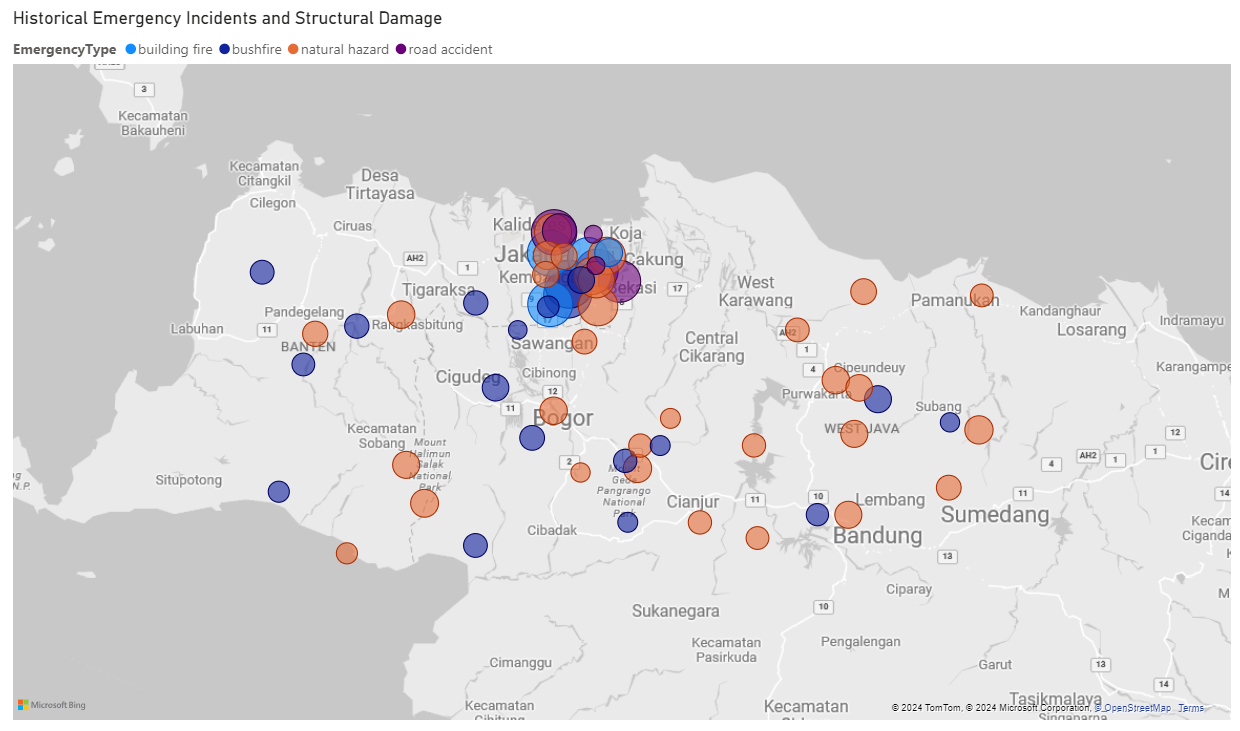

What the dashboard file says about the page in this screenshot:
{"tool":"powerbi","page":{"name":"map-structural-damage","canvas":[1280,720],"ordinal":3},"visuals":[{"type":"map","title":"Historical Emergency Incidents and Structural Damage","fields":{"Y":["dummy.Location_Latitude"],"X":["dummy.Location_Longitude"],"Series":["dummy.EmergencyType"],"Size":["Sum(dummy.Structural_Damage)"]},"box":[41.6,17,1169.8,684.1],"z":0}]}

Visuals, with their boxes on the page's 1280x720 design canvas (x1, y1, x2, y2). These are canvas units, not pixel positions in the 1240x731 screenshot, which may show the page scaled, cropped or inside an application window:
"Historical Emergency Incidents and Structural Damage" map: l=42, t=17, r=1211, b=701
